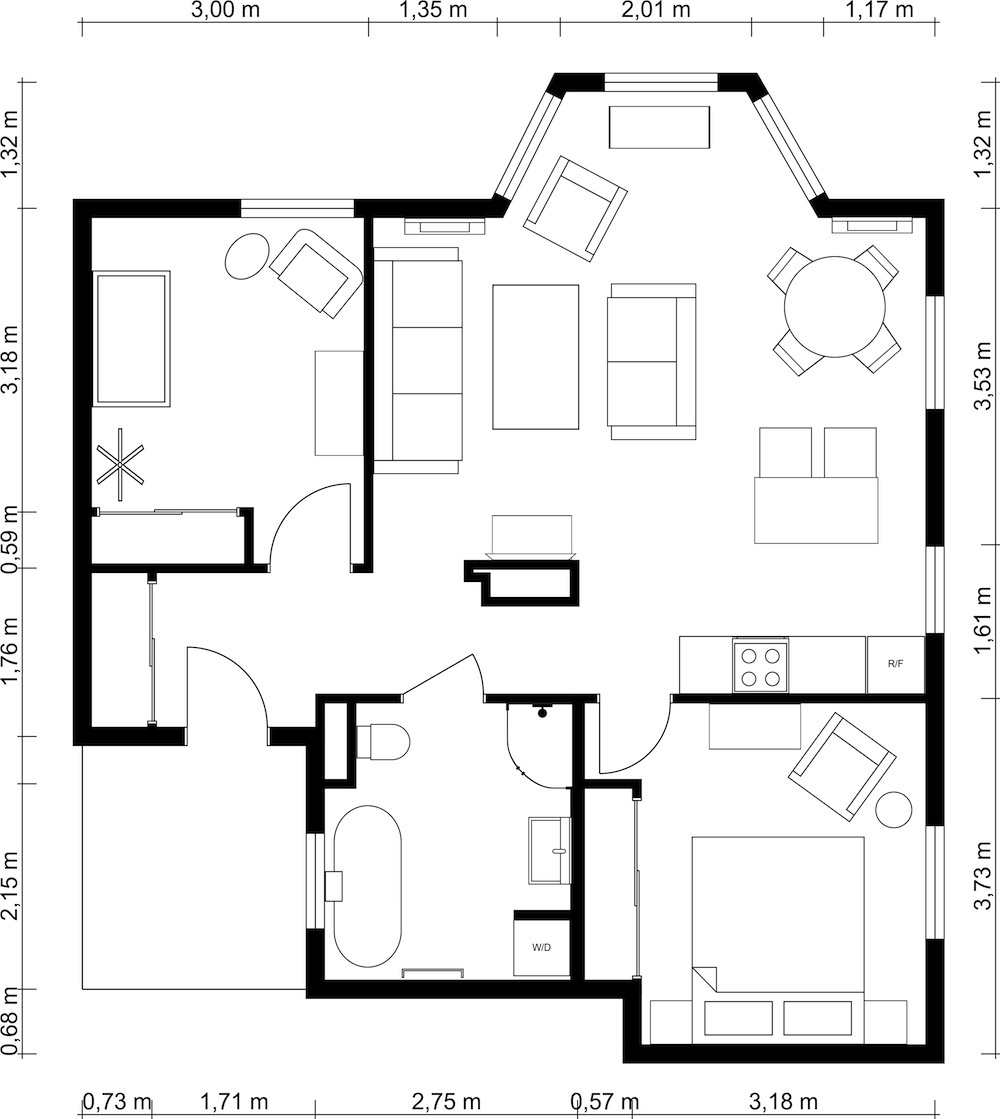door: (265, 473, 358, 549), (588, 701, 681, 777), (176, 640, 269, 716), (399, 640, 482, 690)
window: (744, 100, 832, 186), (488, 95, 545, 186), (242, 193, 352, 222), (926, 296, 945, 410), (925, 826, 944, 933), (921, 548, 945, 629), (306, 834, 326, 931), (602, 74, 716, 90)
